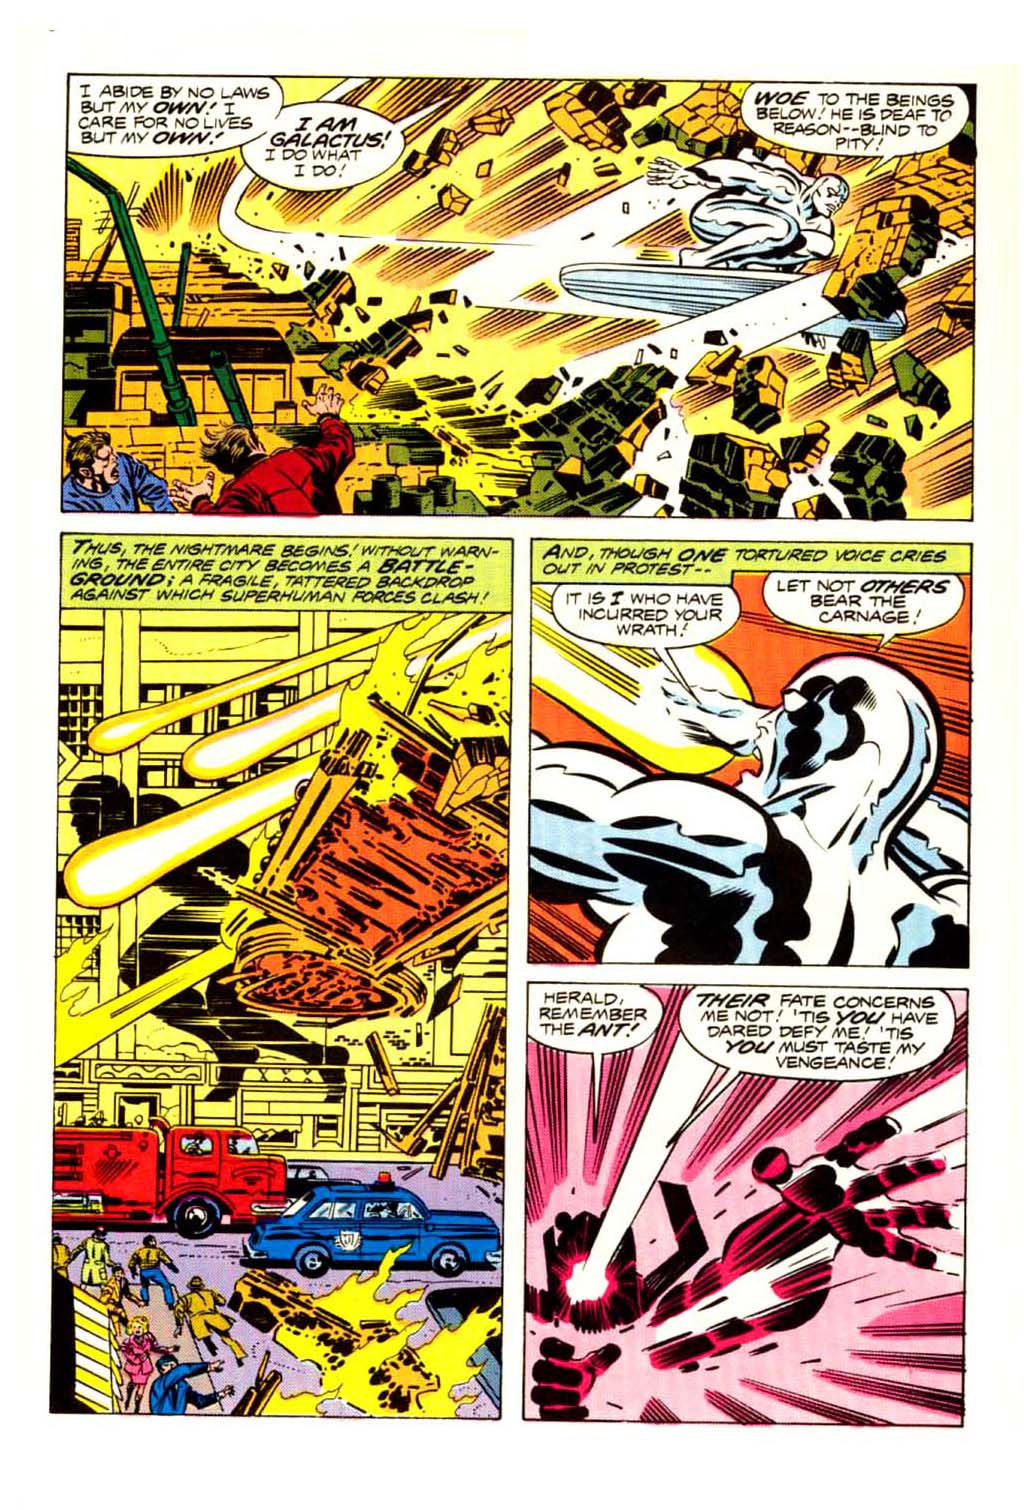Baloon: (59, 527, 515, 615), (683, 983, 957, 1080), (533, 534, 969, 578), (741, 80, 974, 162), (62, 71, 283, 155), (250, 97, 405, 192), (763, 573, 962, 641), (553, 580, 739, 645), (525, 985, 661, 1057)
Vignetta: (48, 525, 513, 1419), (57, 78, 976, 522), (527, 980, 967, 1435), (527, 541, 969, 969)
